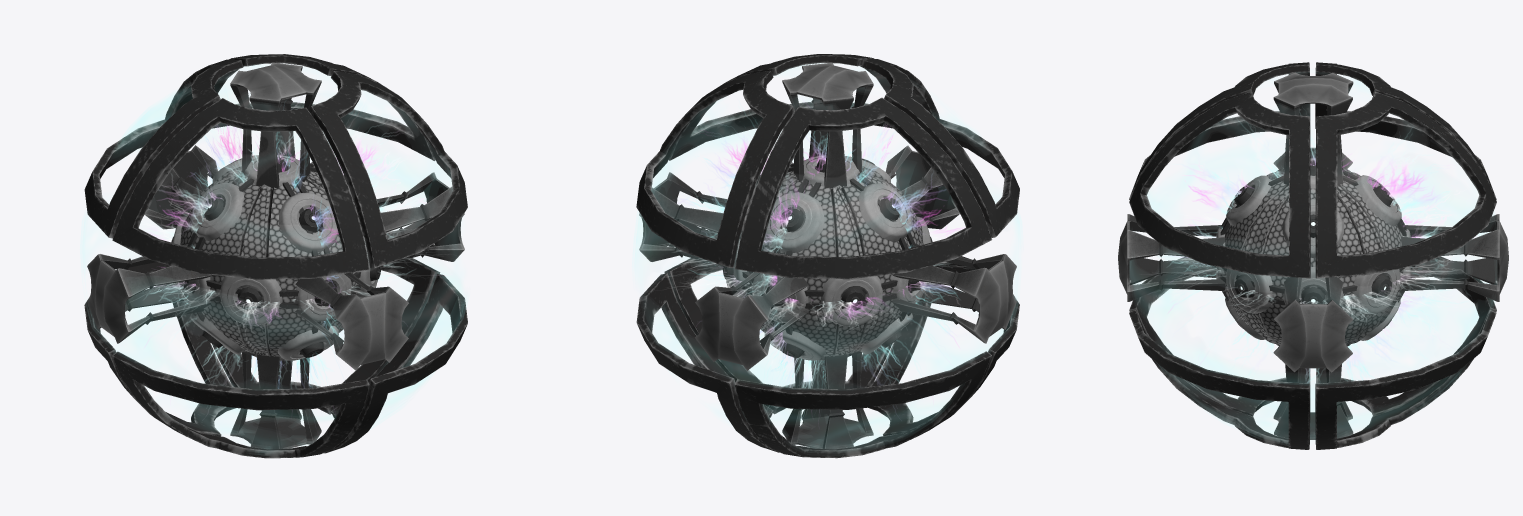
Rendered from lux_core_model_asset.glb.
3 renders of one model, left to right at view 1: azimuth 30°, elevation 25°; view 2: azimuth 150°, elevation 25°; view 3: azimuth 270°, elevation 25°, orthographic. The views are drawn at different scales.
Parts seen in each view (by area): view 1: Ballmesh, forcefield, Plane004, Plane003, Plane002; view 2: Ballmesh, forcefield, Plane004, Plane003, Plane002; view 3: Ballmesh, forcefield, Plane003, Plane002.
Part boxes in pixels (left/top/right/bottom): Ballmesh: left=84, top=54, right=467, bottom=458; forcefield: left=80, top=64, right=465, bottom=452; Plane004: left=148, top=131, right=422, bottom=386; Plane003: left=191, top=125, right=338, bottom=388; Plane002: left=126, top=201, right=421, bottom=330; Ballmesh: left=636, top=54, right=1019, bottom=458; forcefield: left=633, top=63, right=1021, bottom=448; Plane004: left=681, top=127, right=956, bottom=382; Plane003: left=744, top=124, right=892, bottom=421; Plane002: left=668, top=226, right=962, bottom=326; Ballmesh: left=1118, top=62, right=1508, bottom=449; forcefield: left=1130, top=73, right=1493, bottom=440; Plane003: left=1157, top=135, right=1462, bottom=382; Plane002: left=1172, top=215, right=1451, bottom=321.
Size of the model in its own units: 121 by 121 by 121.
10 materials, 7 textured.
